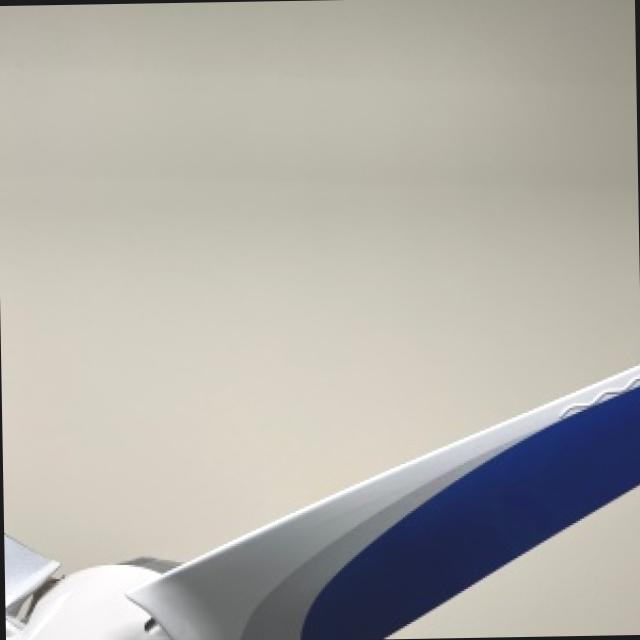healthy: (6, 364, 640, 640)
